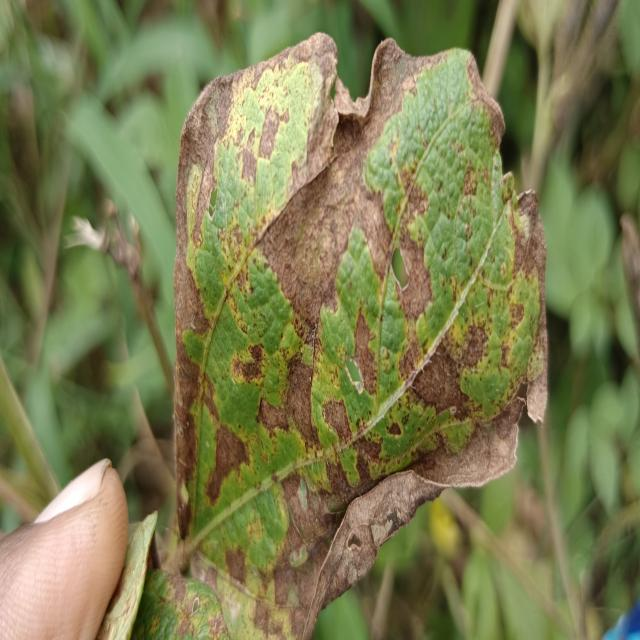Black gram_leaf spot: (170, 26, 556, 640)
